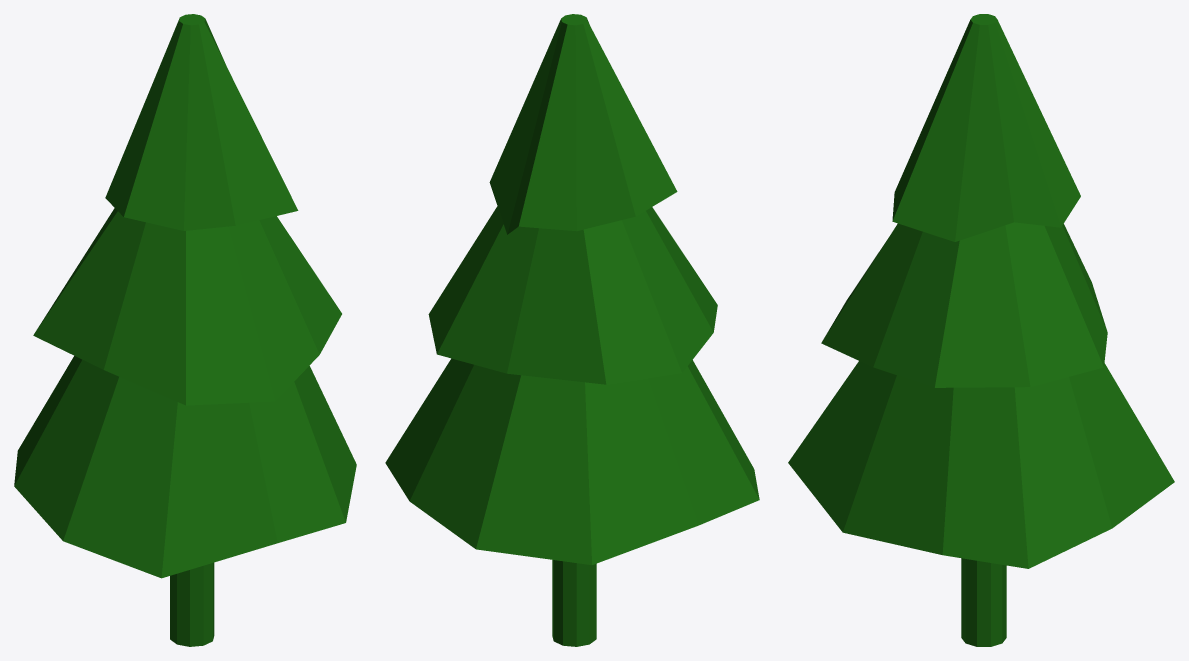
The model's file is DrunkDriverPineTree.fbx.
The picture shows the model from 3 angles, left to right: view 1: azimuth 30°, elevation 25°; view 2: azimuth 150°, elevation 25°; view 3: azimuth 270°, elevation 25°; orthographic projection.
Parts seen in each view (by area): view 1: Cylinder; view 2: Cylinder; view 3: Cylinder.
Part boxes in pixels (x1=…): Cylinder: x1=14, y1=14, x2=356, y2=646; Cylinder: x1=385, y1=14, x2=759, y2=646; Cylinder: x1=788, y1=14, x2=1174, y2=646.
Bounding box in the file's own units: 1213 × 2209 × 1253.
